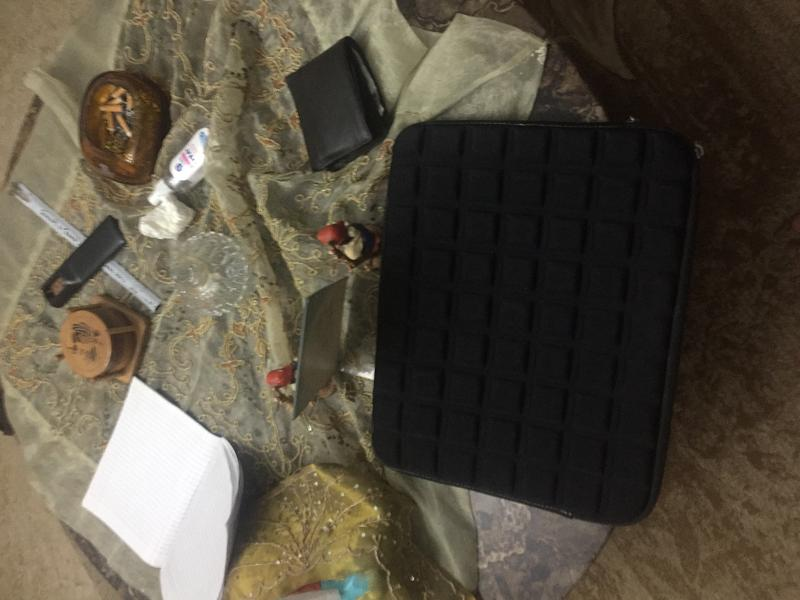cover: (367, 93, 708, 533)
